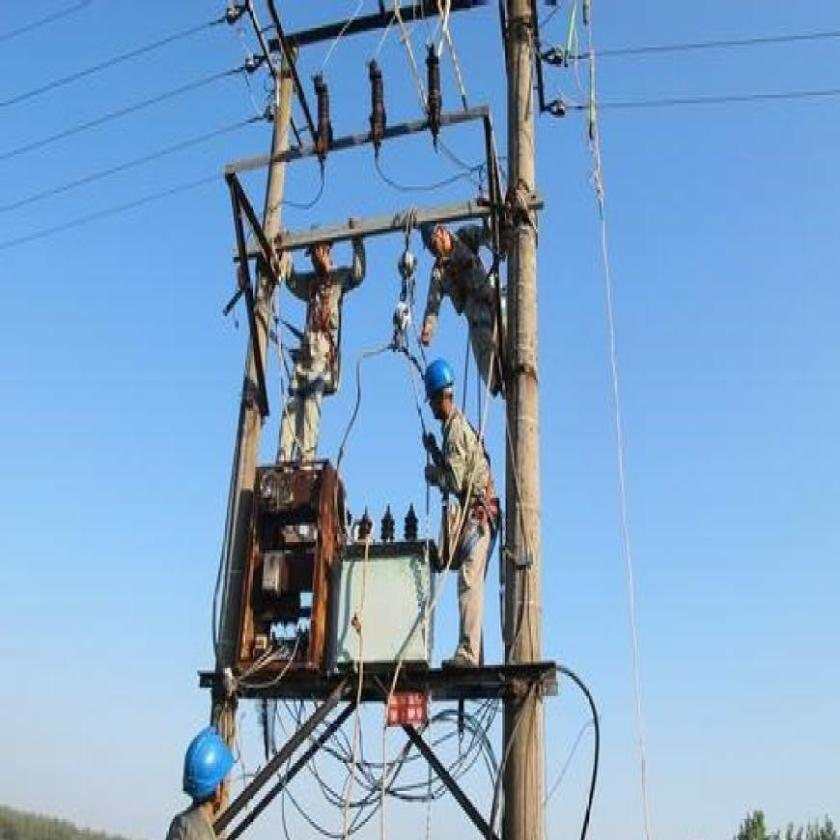Con_casco: (182, 726, 238, 818), (417, 209, 453, 265), (421, 358, 455, 417), (305, 222, 334, 273)
